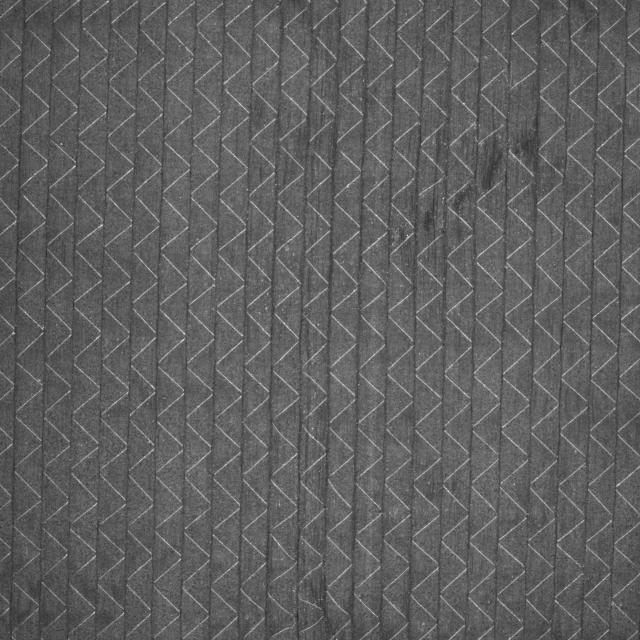carbon-fibre-defect: (412, 185, 447, 286), (475, 134, 508, 206), (509, 126, 543, 177)
